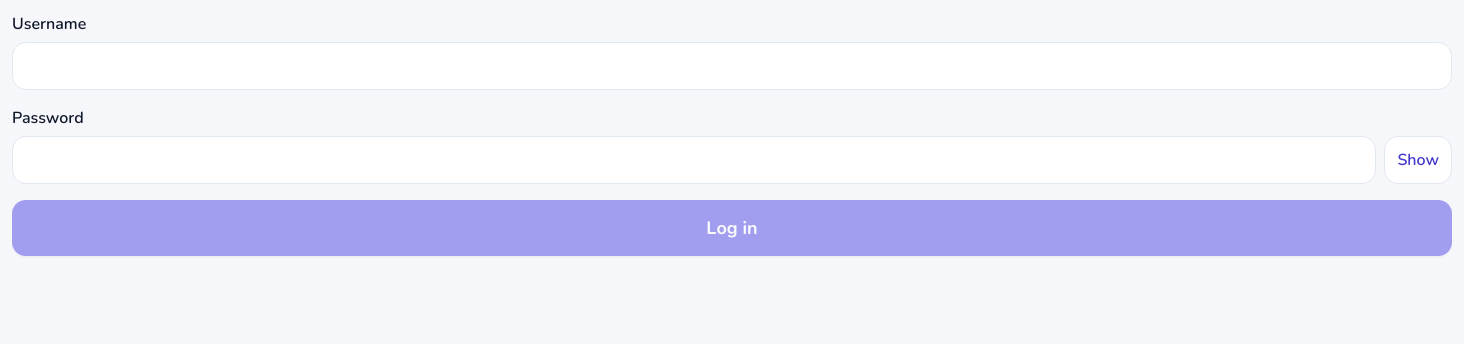
Scenario: LoginForm › shows the friendly message from the API
Type "sokha" into the field labelled "Username" at (732, 66), box [12, 42, 1452, 90]
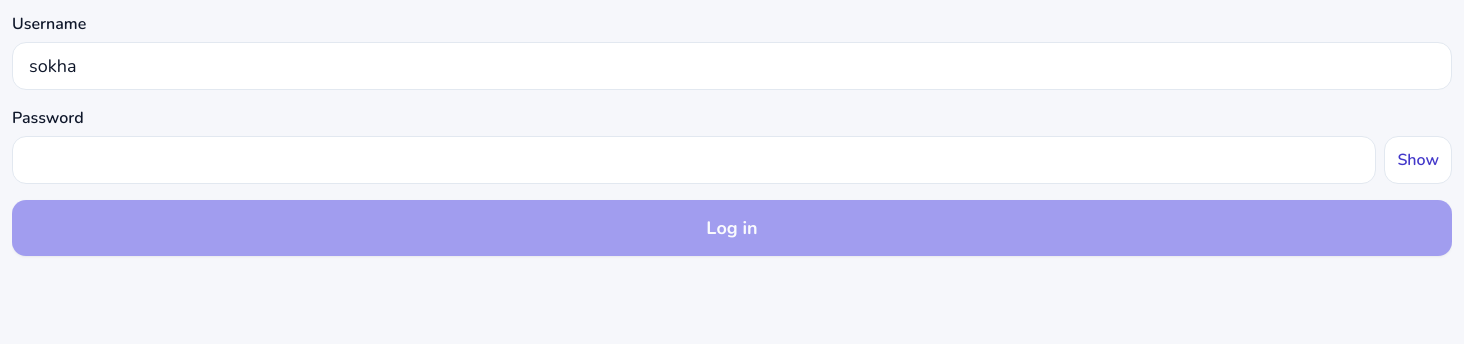
Type "wrong" into the password field labelled "Password" at (694, 160), box [12, 136, 1376, 184]
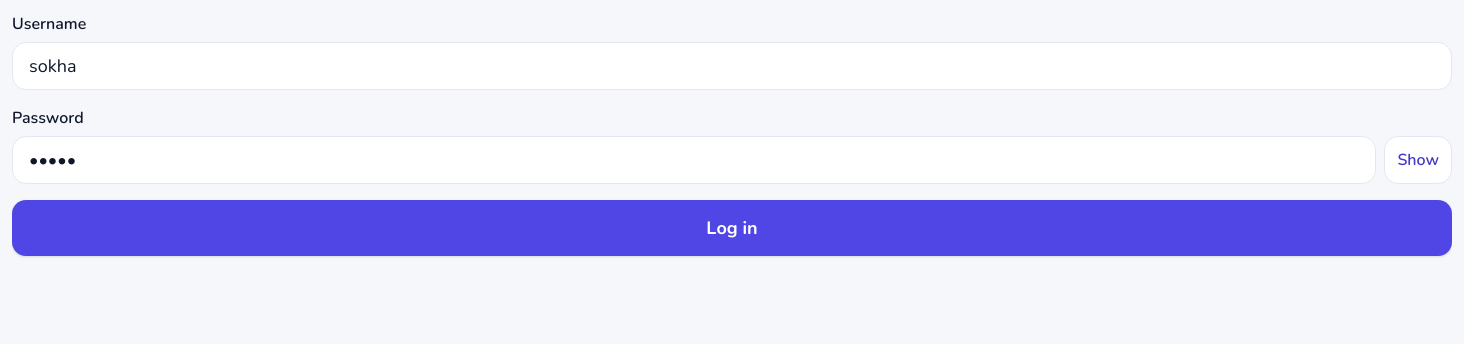
Click the button "Log in" at (732, 228), box [12, 200, 1452, 256]
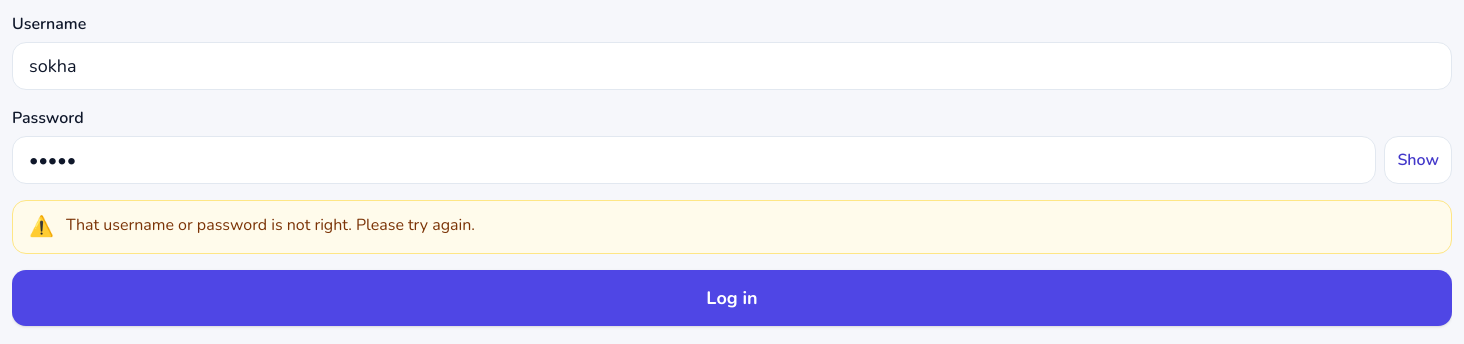
Check: the message shows "That username or password is not right.", box [66, 214, 475, 236]
